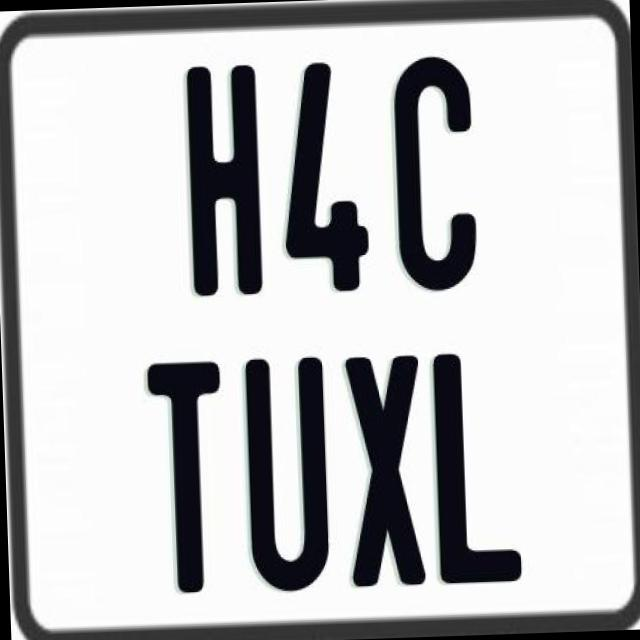4: (279, 55, 378, 298)
C: (390, 50, 480, 288)
H: (184, 62, 264, 304)
L: (432, 352, 526, 586)
T: (144, 359, 227, 601)
U: (241, 352, 335, 594)
X: (341, 352, 427, 590)
